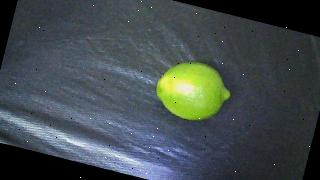LOCAL: (151, 54, 236, 128)
